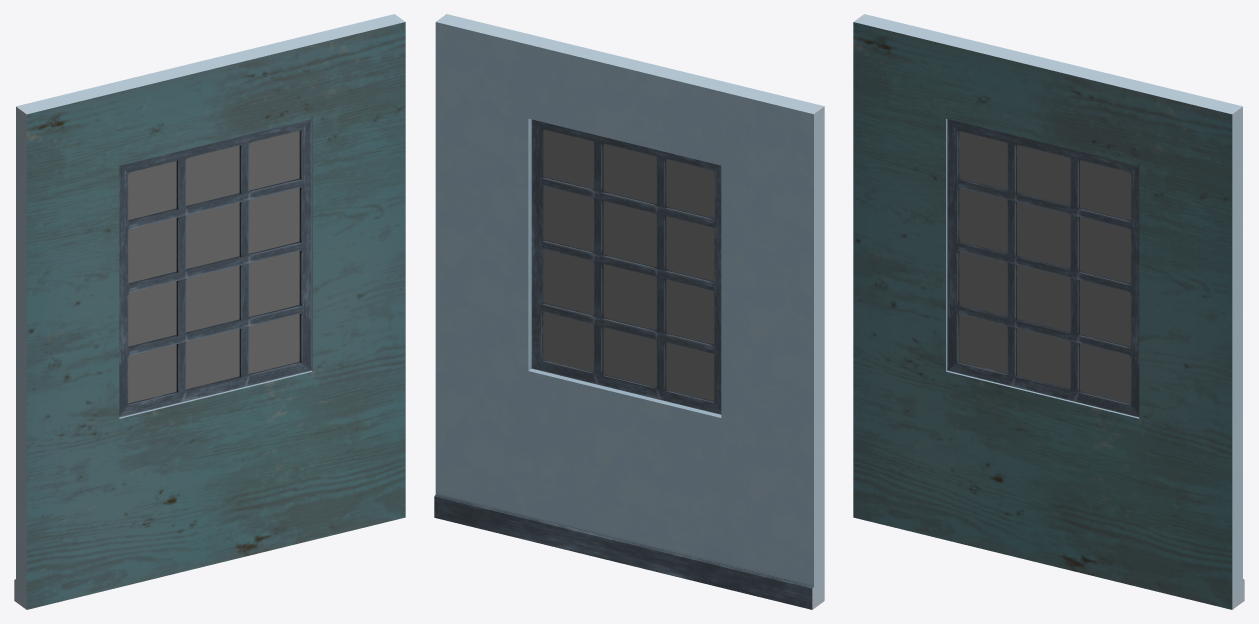
Rendered from WindowWall.fbx.
3 views of the same model, side by side, from view 1: azimuth 30°, elevation 25°; view 2: azimuth 150°, elevation 25°; view 3: azimuth 330°, elevation 25° (orthographic).
Parts seen in each view (by area): view 1: WindowWall, Window; view 2: WindowWall, Window; view 3: WindowWall, Window.
Boxes of the visible parts, x1=… form: WindowWall: x1=14, y1=14, x2=405, y2=609; Window: x1=119, y1=119, x2=311, y2=417; WindowWall: x1=434, y1=14, x2=824, y2=609; Window: x1=531, y1=119, x2=721, y2=414; WindowWall: x1=853, y1=14, x2=1244, y2=609; Window: x1=947, y1=119, x2=1139, y2=417.
Size of the model in its own units: 2 by 2.5 by 0.1131.
